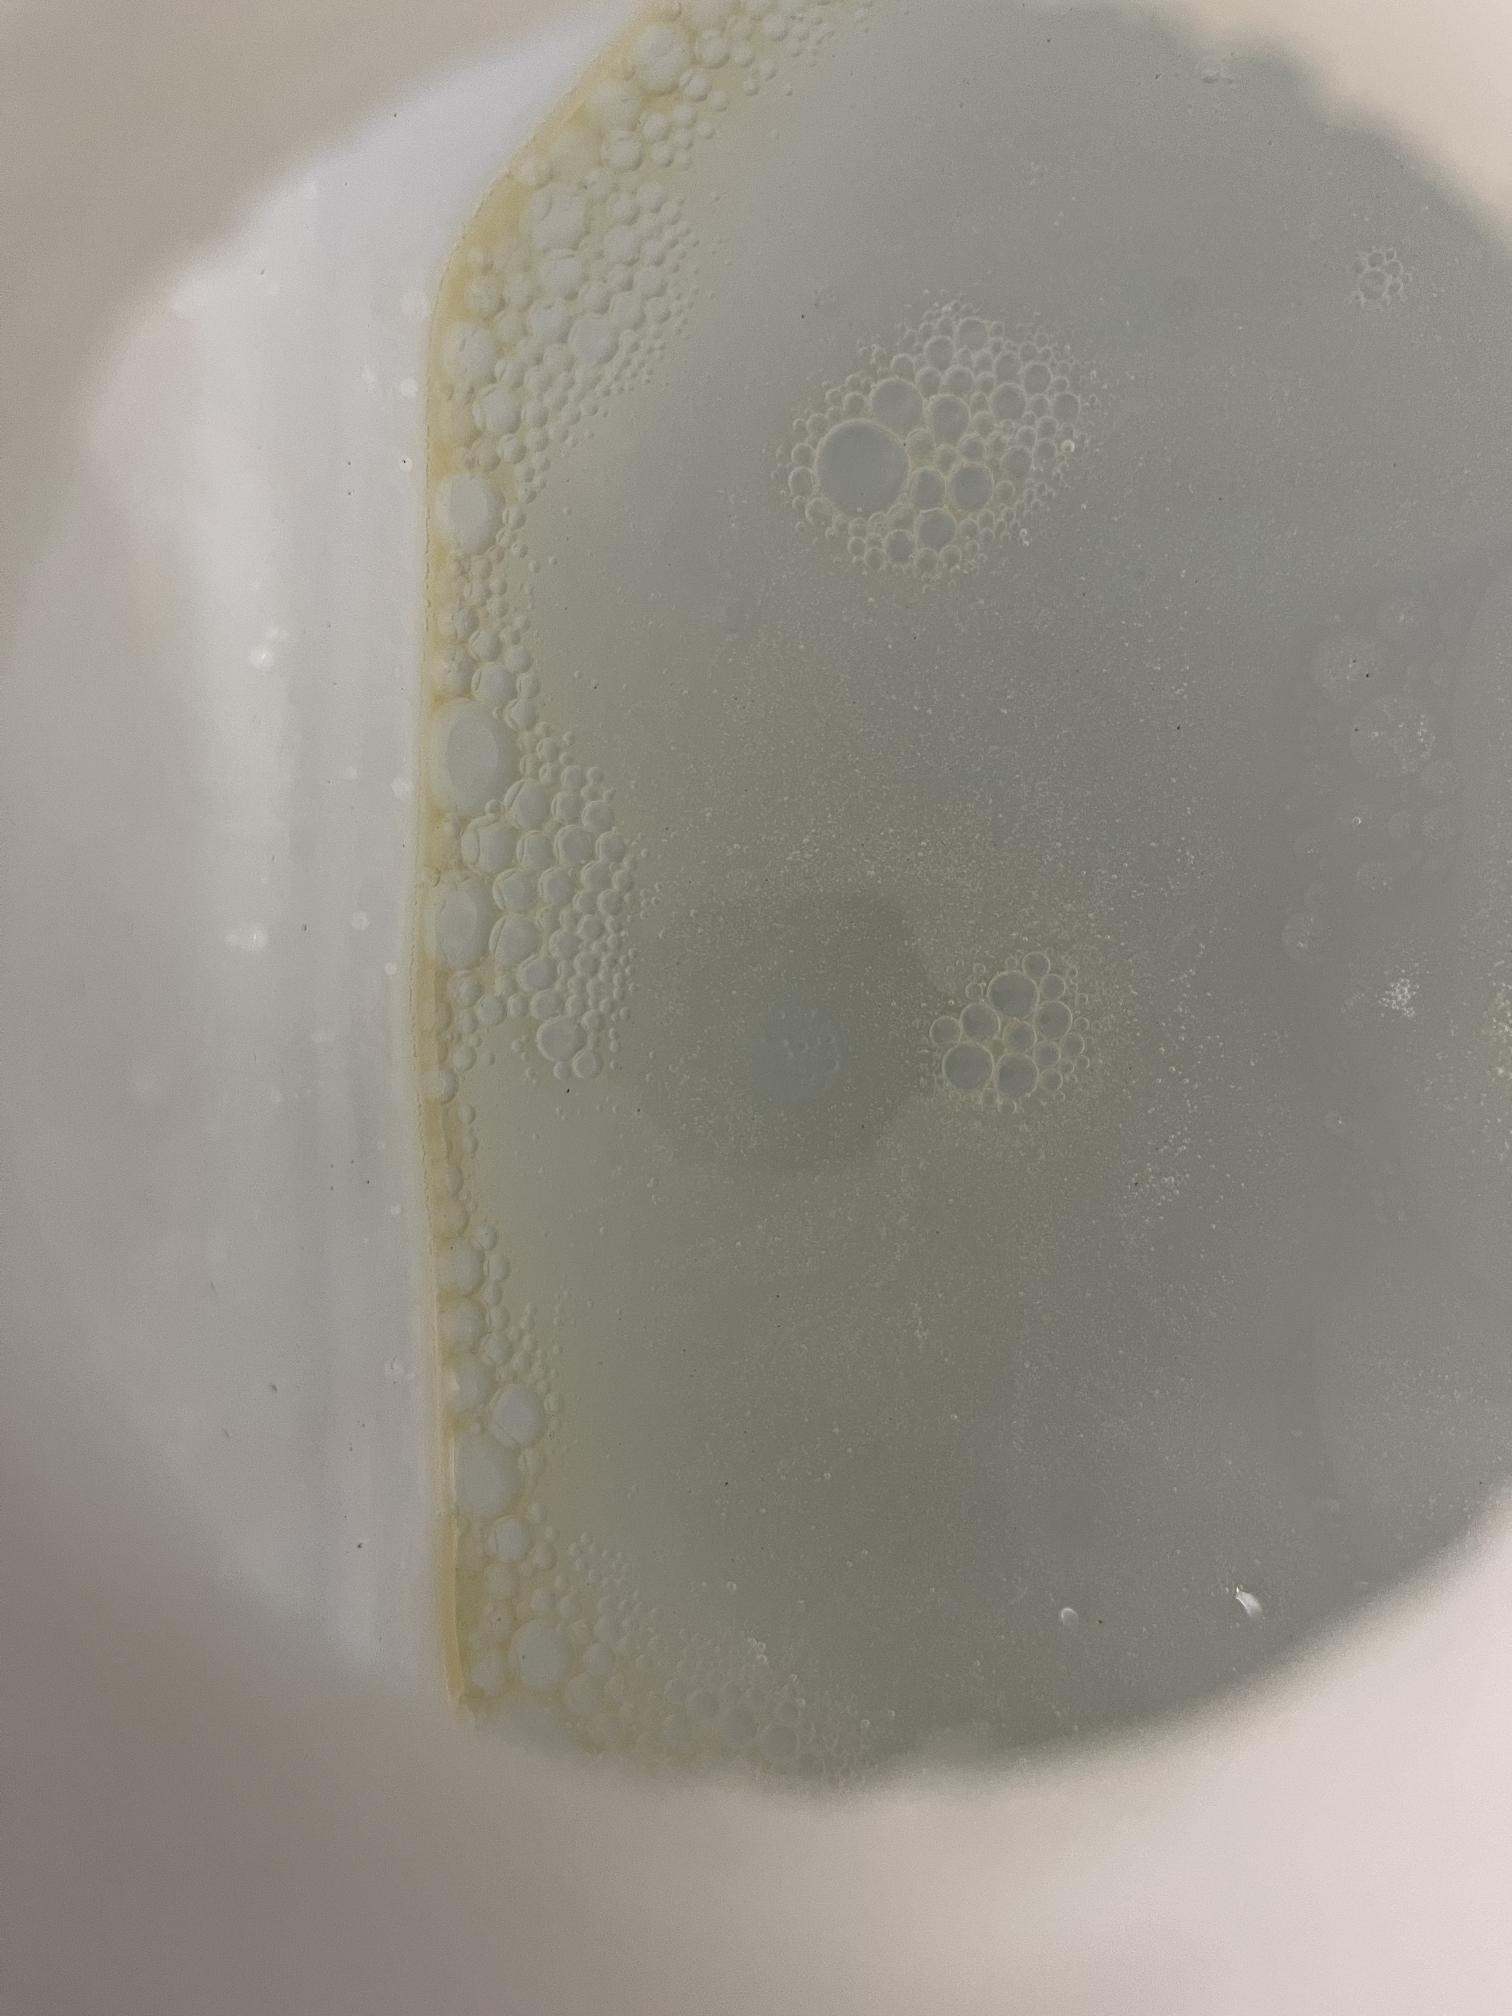Presenca de Oleo - - 170ml: (156, 95, 1364, 1949)
